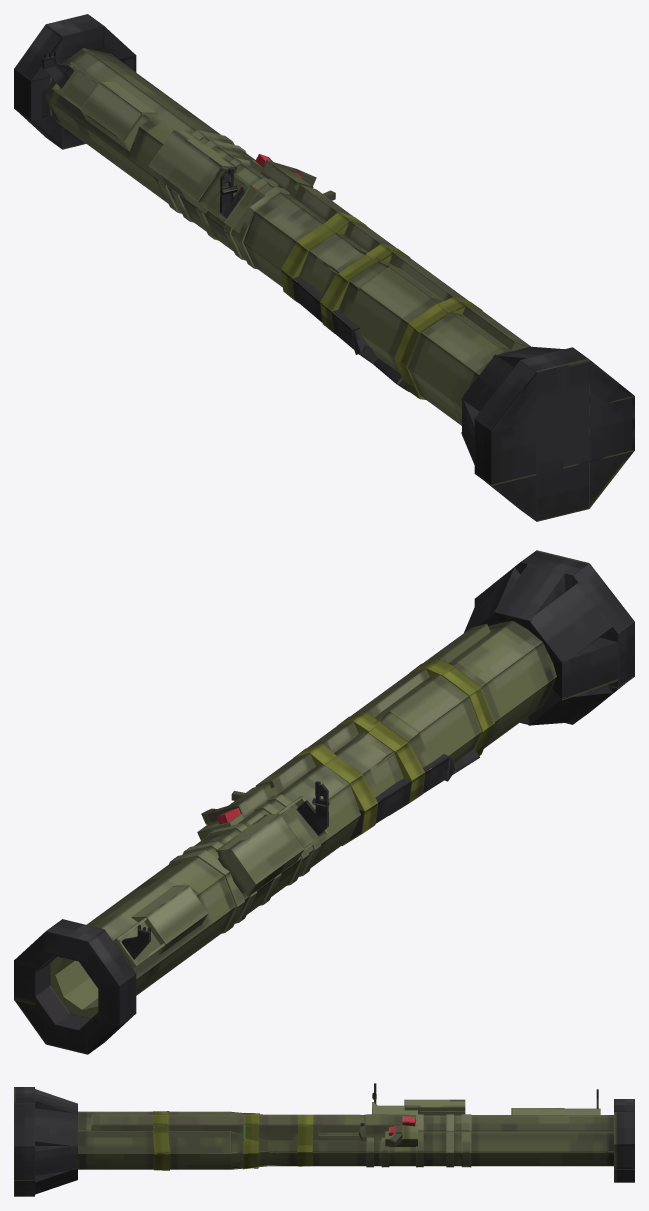
3 views of the same model, one above another, from view 1: azimuth 30°, elevation 25°; view 2: azimuth 150°, elevation 25°; view 3: azimuth 270°, elevation 25° (orthographic). The views are drawn at different scales.
Visible parts, largest first — view 1: weapon, sight2, sight1; view 2: weapon, sight2, sight1; view 3: weapon, sight2, sight1.
Boxes of the visible parts, x1,y1,x2,y2 form: weapon: (14, 14, 634, 521); sight2: (148, 130, 265, 232); sight1: (42, 51, 157, 151); weapon: (14, 550, 634, 1054); sight2: (216, 781, 329, 896); sight1: (113, 885, 208, 968); weapon: (14, 1087, 634, 1196); sight2: (372, 1083, 465, 1115); sight1: (511, 1089, 600, 1115).
Size of the model in its own units: 0.8515 by 0.847 by 5.09.
